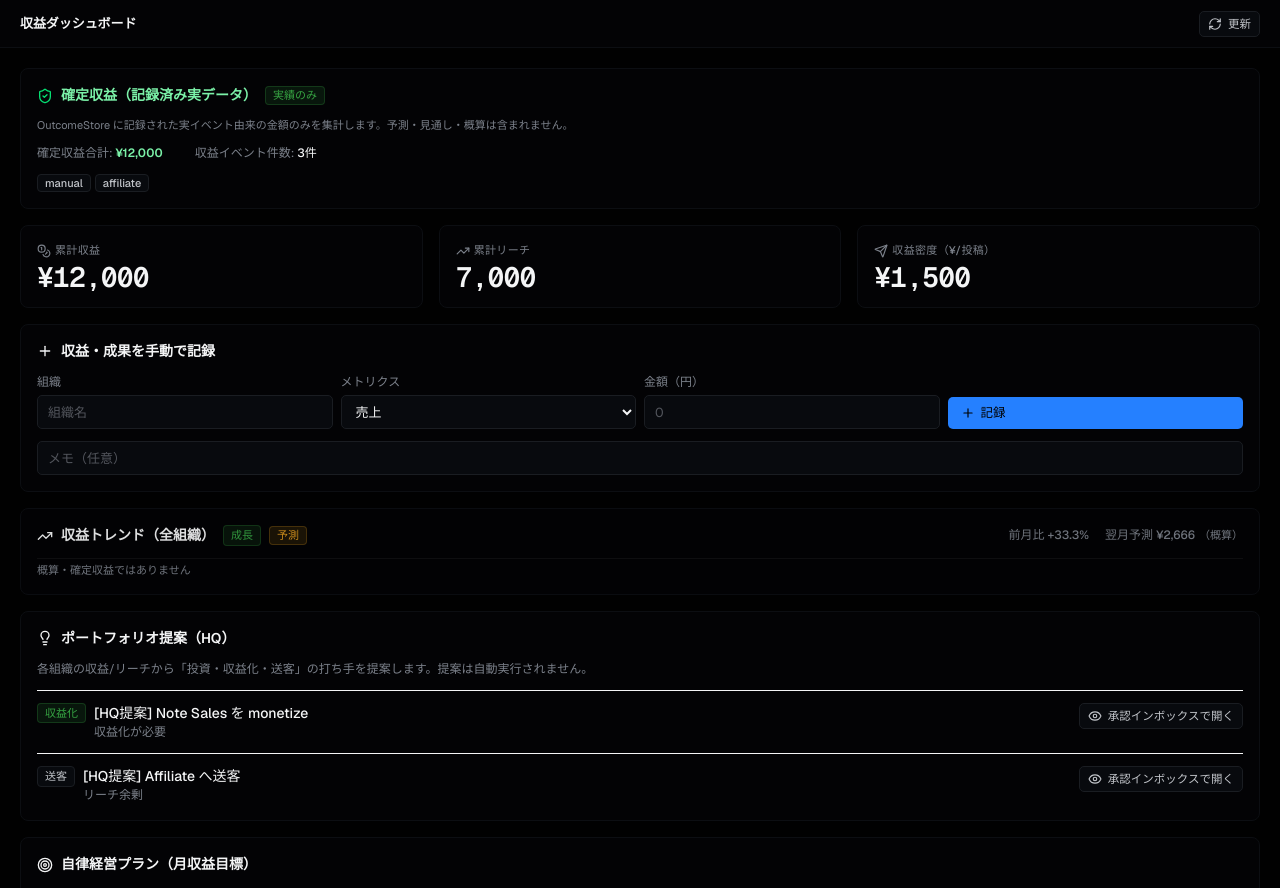
Test: メトリクス種別が変わると金額欄の単位ヒントが変わる
The width and height of the screenshot is (1280, 888).
Expected: the text "収益・成果を手動で記録" is shown, [61,341,215,362]
Expected: the text "金額（円）" is shown, [644,374,704,390]
Select "CV" in the dropdown labelled "メトリクス" at (488,412), box [340,395,636,429]
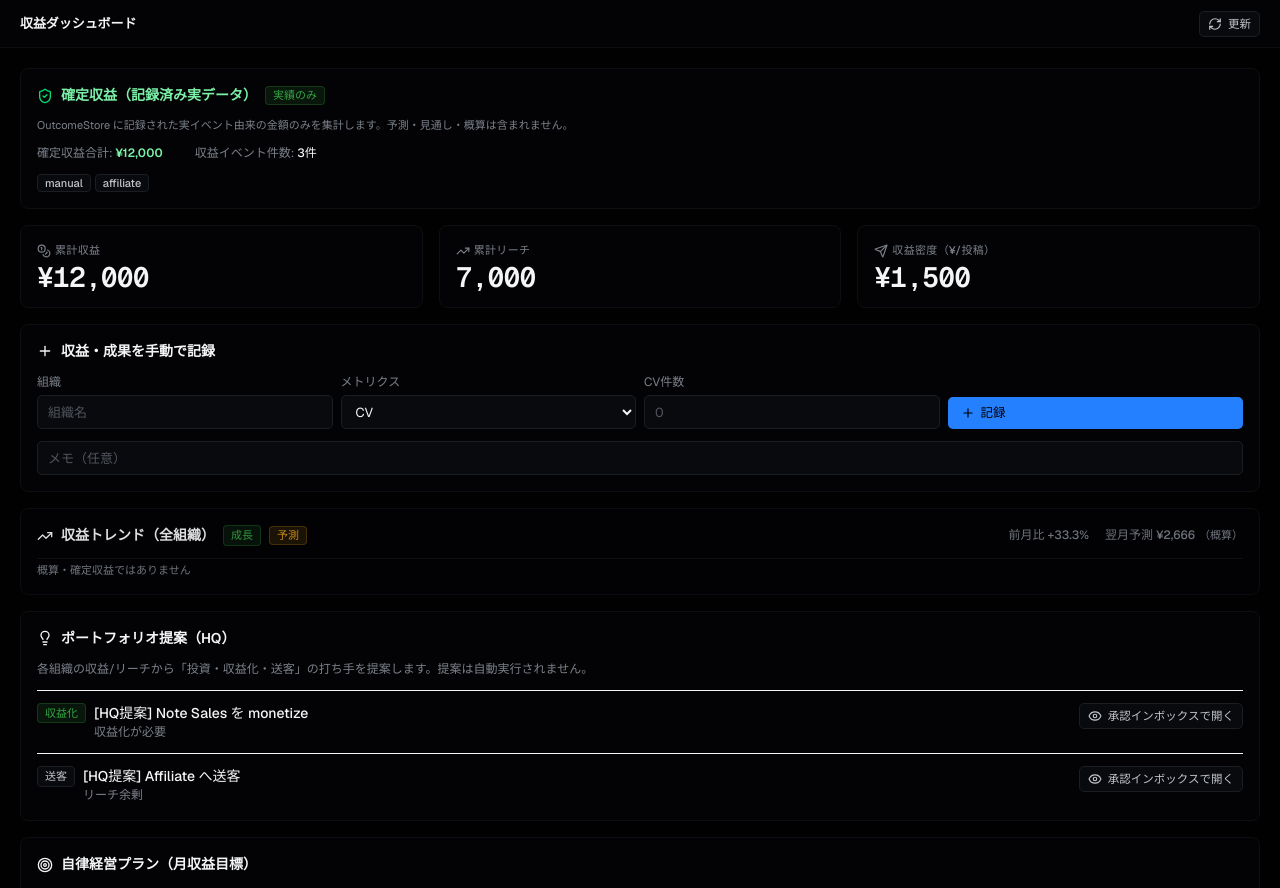
Now the text "CV件数" is shown, box [644,374,684,390]
